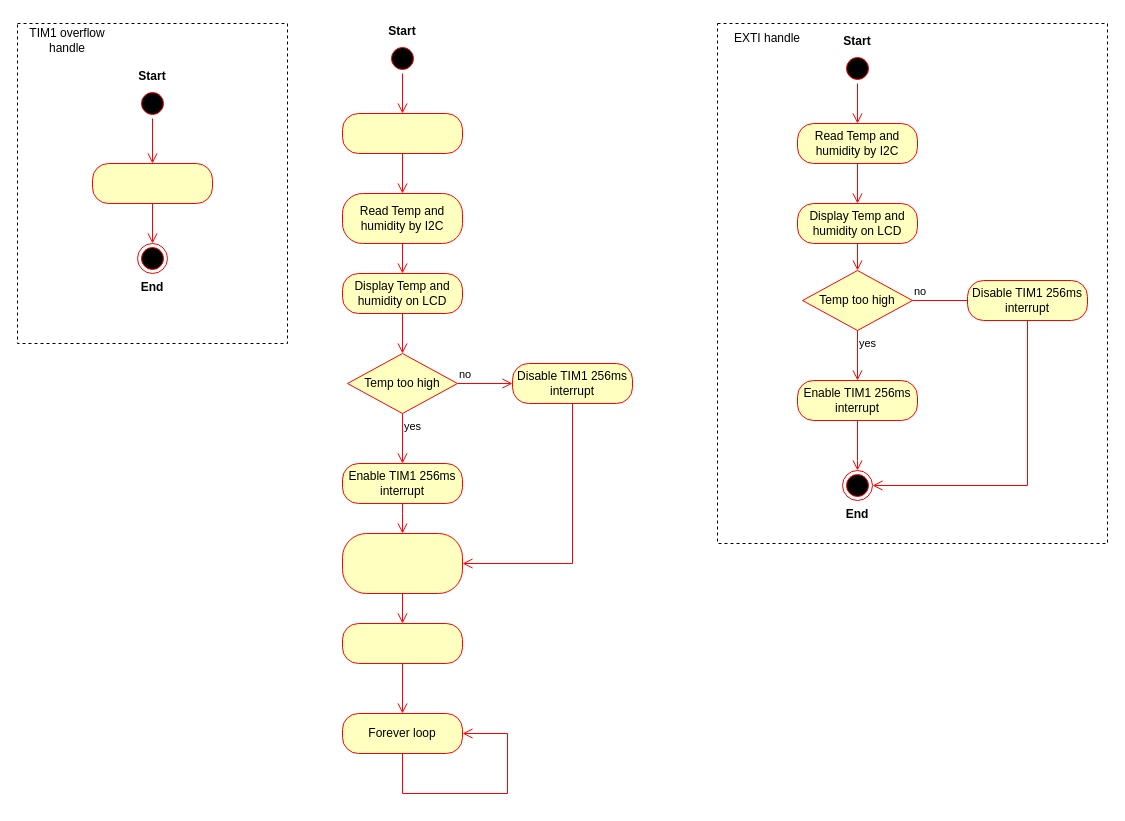
The diagram is 1125 pixels wide and 821 high, and some of its shapes have lost their labels. Each missing label, with the centre of its shape:
"Enable external interrupt on pin to which RTC INT pin is connected" goes at (402,563).
"Set alarm to 1 min by I2C" goes at (402,643).
"Set RTC clock to 0 by I2C" goes at (402,133).
"Toggle LED" goes at (152,183).
